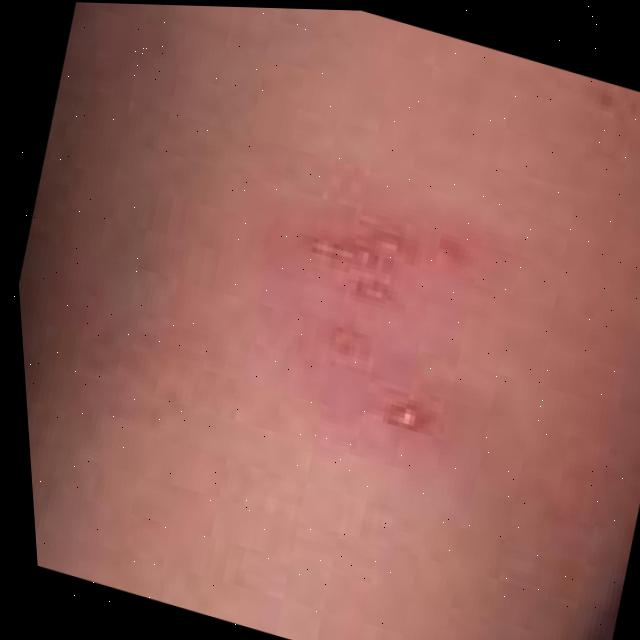Shingles: (276, 199, 491, 454)
